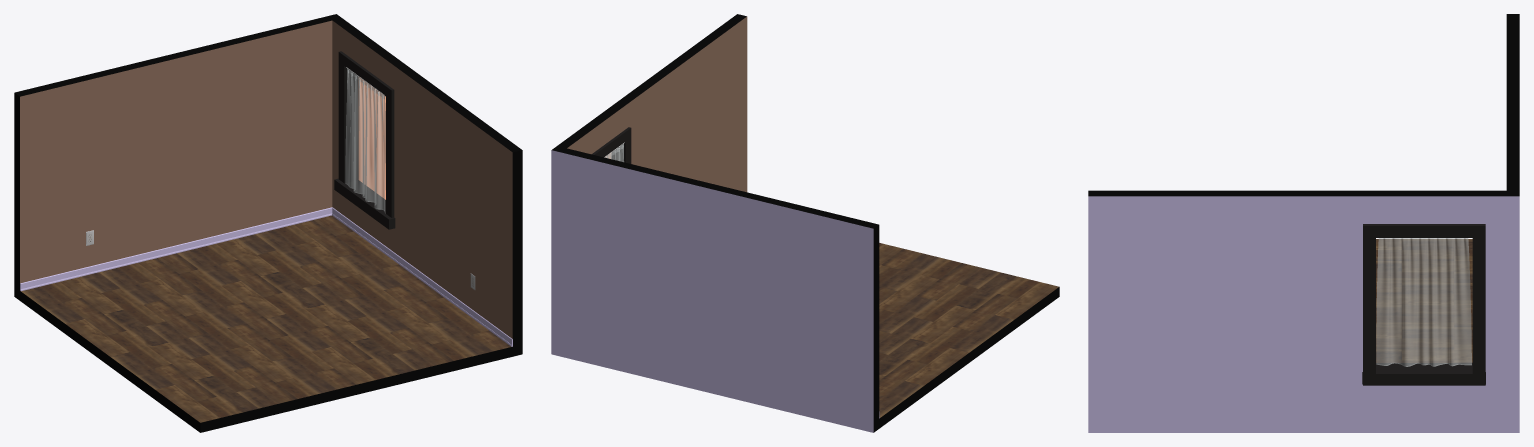
File: room.gltf
3 renders of one model, left to right at view 1: azimuth 30°, elevation 25°; view 2: azimuth 150°, elevation 25°; view 3: azimuth 270°, elevation 25°, orthographic. The views are drawn at different scales.
Visible parts, largest first — view 1: Room, WindowFrame, Curtain, Baseboard_North, WindowGlow, Baseboard_East; view 2: Room, WindowFrame; view 3: Room, Curtain, WindowFrame.
Boxes of the visible parts, bbox=[...] form: Room: bbox=[14, 14, 522, 432]; WindowFrame: bbox=[334, 51, 395, 229]; Curtain: bbox=[345, 67, 385, 213]; Baseboard_North: bbox=[20, 207, 332, 291]; WindowGlow: bbox=[359, 78, 385, 199]; Baseboard_East: bbox=[332, 207, 512, 346]; Room: bbox=[551, 14, 1059, 432]; WindowFrame: bbox=[592, 127, 631, 163]; Room: bbox=[1088, 14, 1519, 432]; Curtain: bbox=[1376, 238, 1471, 366]; WindowFrame: bbox=[1362, 224, 1485, 385].
Size of the model in its own units: 4 by 2.4 by 3.96.
Materials: 9 (3 with a texture image).
